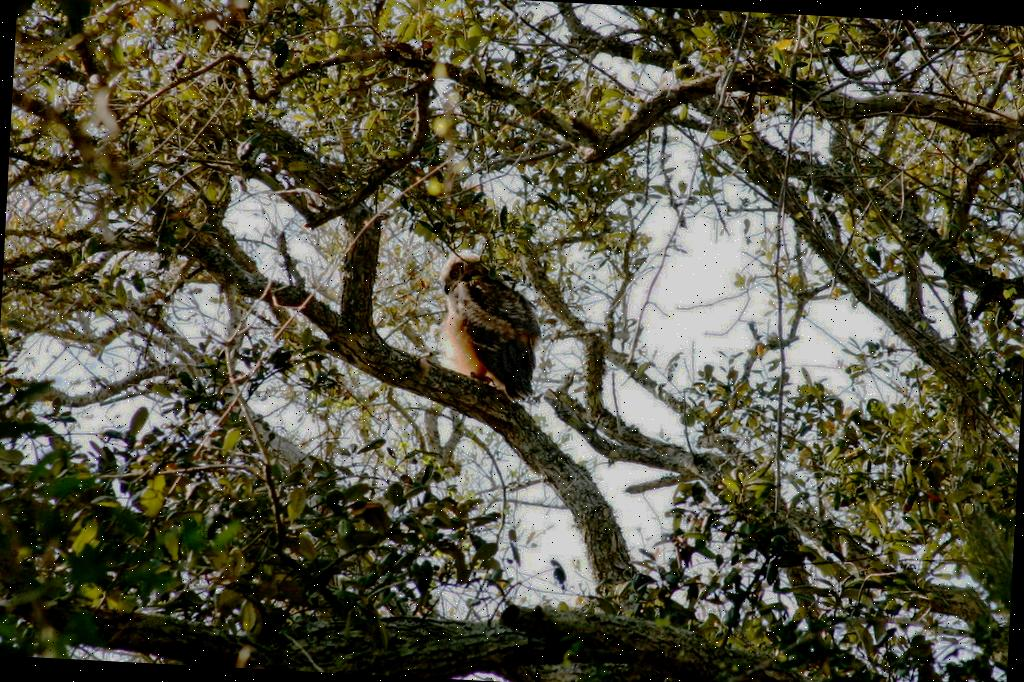Owl: (430, 254, 549, 407)
